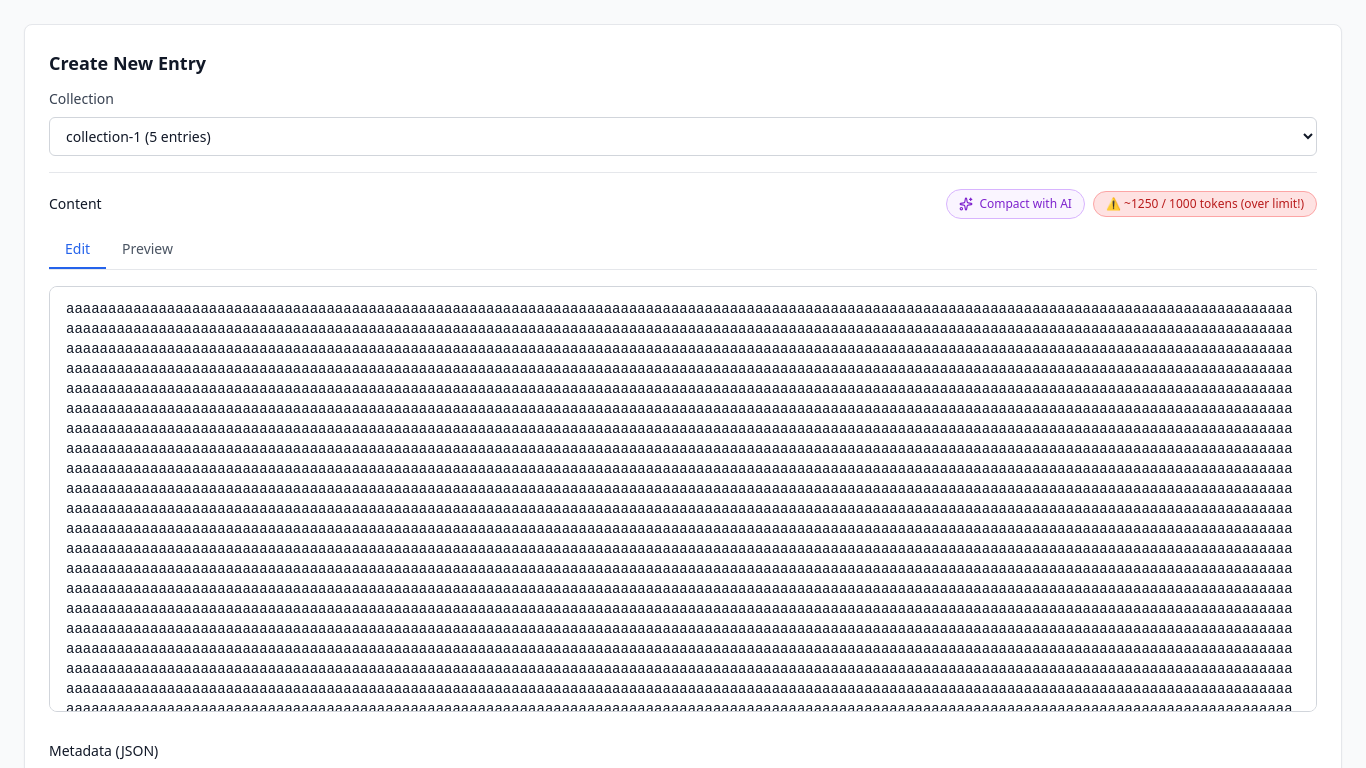
it: ArticleEditor › AI Compacting › should show error message if compacting fails
Click the button "Compact with AI" at [1016, 204], box [946,189,1085,219]
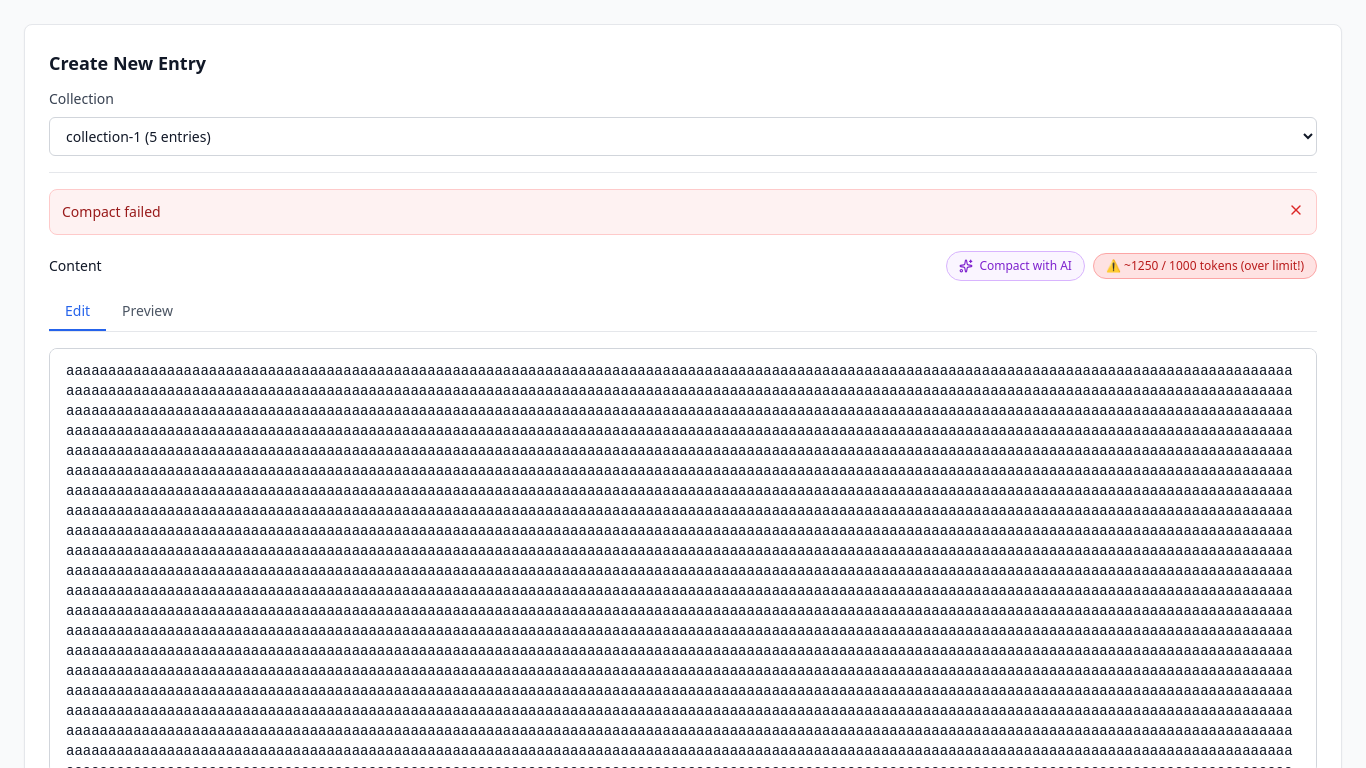
expect the text "Compact failed" is shown: met, box [62,202,161,222]
